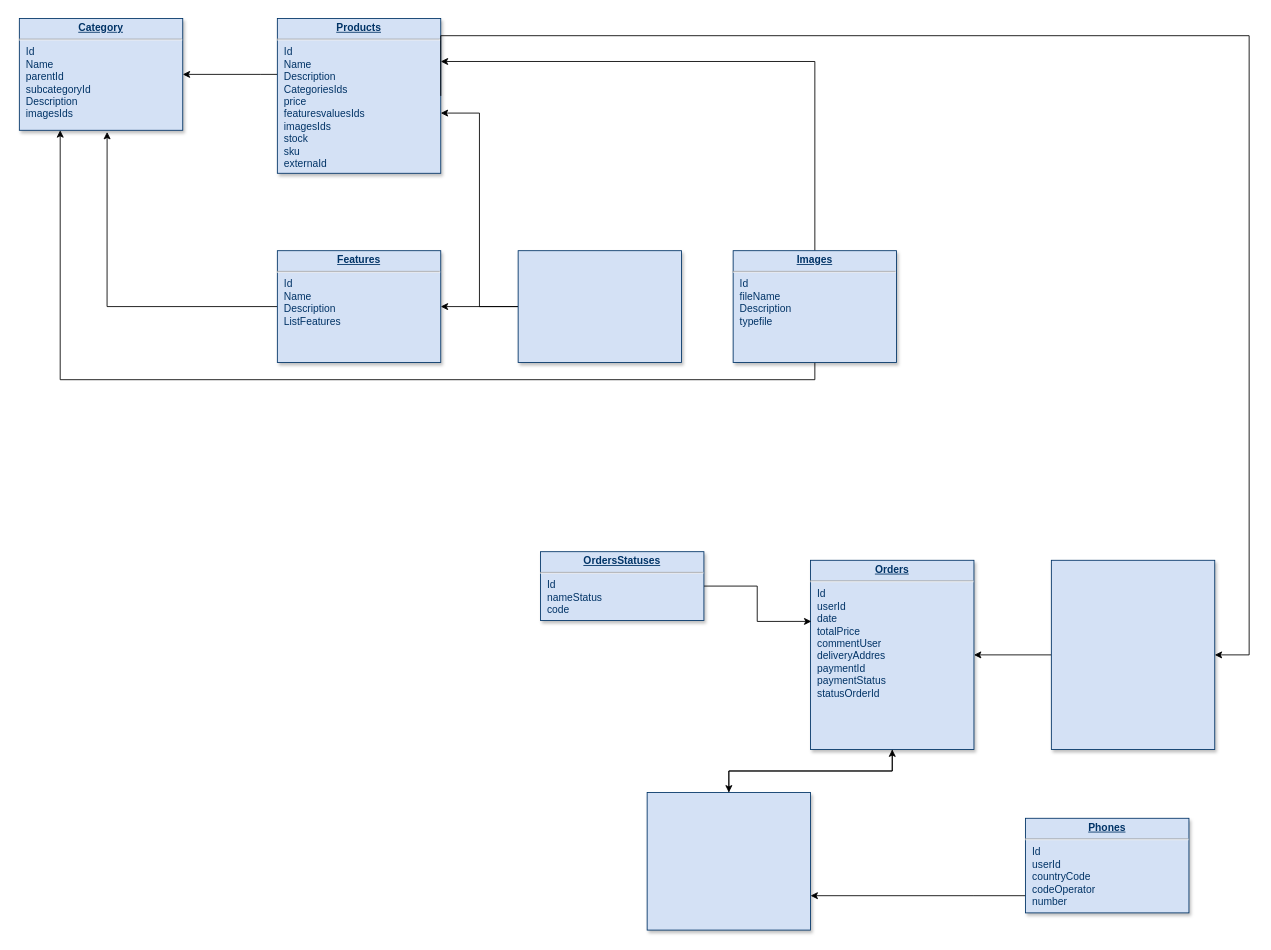
Image size: 1271x950. Some labels were removed from this diagram. Each missing label, with the centre of its shape:
"FeaturesValues Id parentId descriprion" goes at point 600,307.
"OrderItems Id orderId productId amount price" goes at point 1133,655.
"Users Id firstName lastName dateBirth dateRegister password email" goes at point 729,862.
